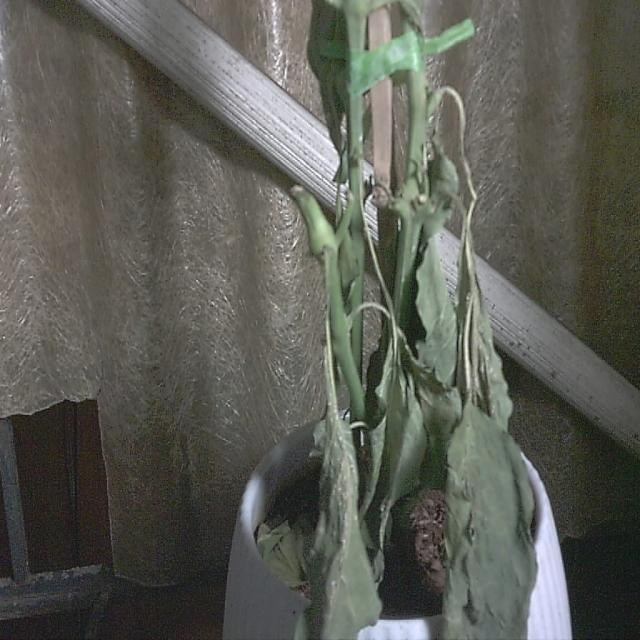Leaf: (442, 402, 536, 639), (297, 410, 381, 638), (416, 239, 458, 388)
